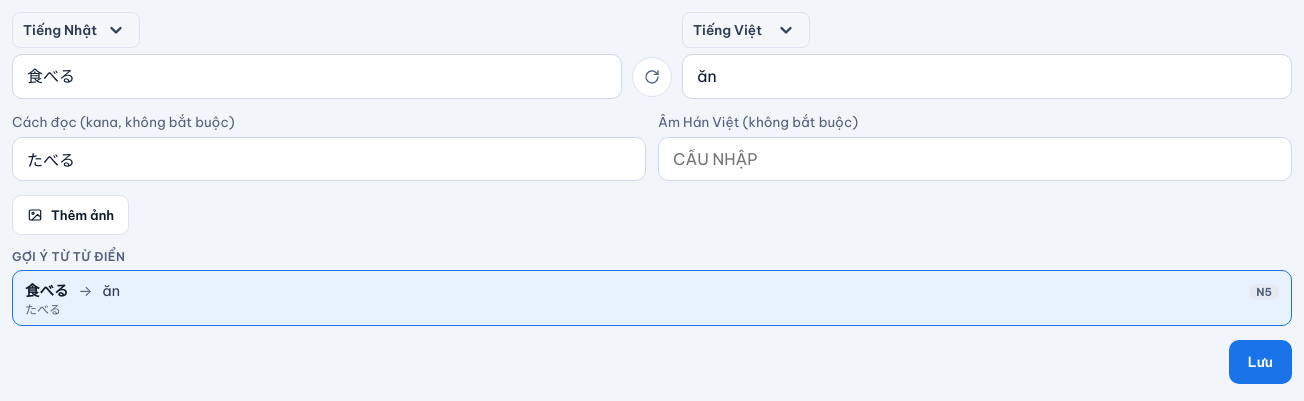
CardEditor › shows the English meaning when the right box is English, and re-reads it when the language changes
Expected: the text box named "Nghĩa" holds "ăn", [682,54,1292,99]
Step 1. Select "Tiếng Anh" in the 2nd dropdown named "Ngôn ngữ ô bên phải" → coordinates (746, 30), box [682,12,810,48]
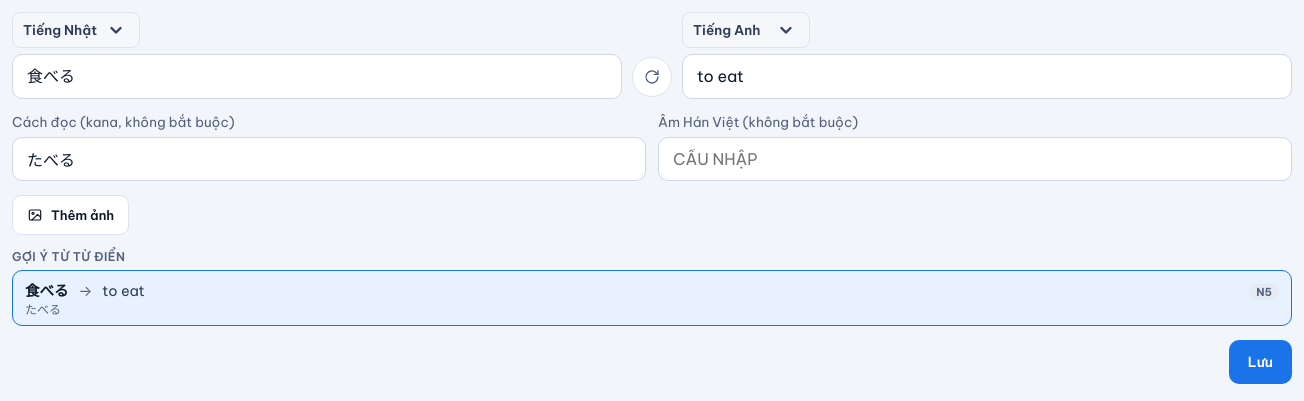
Now the text box named "Nghĩa" holds "to eat", box [682,54,1292,99]
